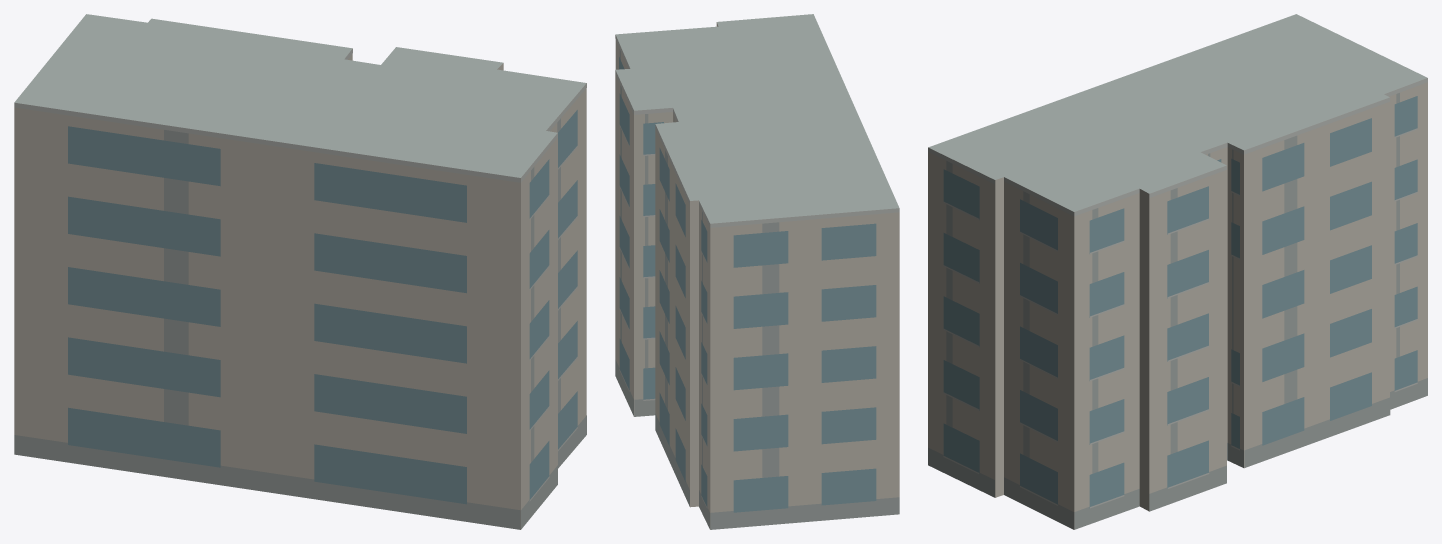
Rendered from survey-upis-32622164.glb.
3 views of the same model, side by side, from view 1: azimuth 30°, elevation 25°; view 2: azimuth 150°, elevation 25°; view 3: azimuth 270°, elevation 25° (orthographic). The views are drawn at different scales.
Parts seen in each view (by area): view 1: survey-upis-32622164.tmp; view 2: survey-upis-32622164.tmp; view 3: survey-upis-32622164.tmp.
Boxes of the visible parts, box(x1,y1,x2,y2) form: survey-upis-32622164.tmp: box(14, 14, 586, 529); survey-upis-32622164.tmp: box(615, 14, 899, 529); survey-upis-32622164.tmp: box(928, 14, 1427, 529).
Bounding box in the file's own units: 23.81 × 17.8 × 25.38.
